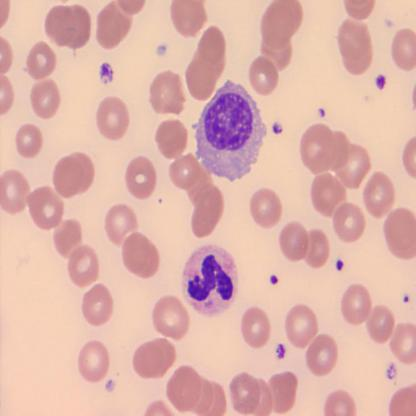Metamyelocyte: (193, 78, 268, 184)
